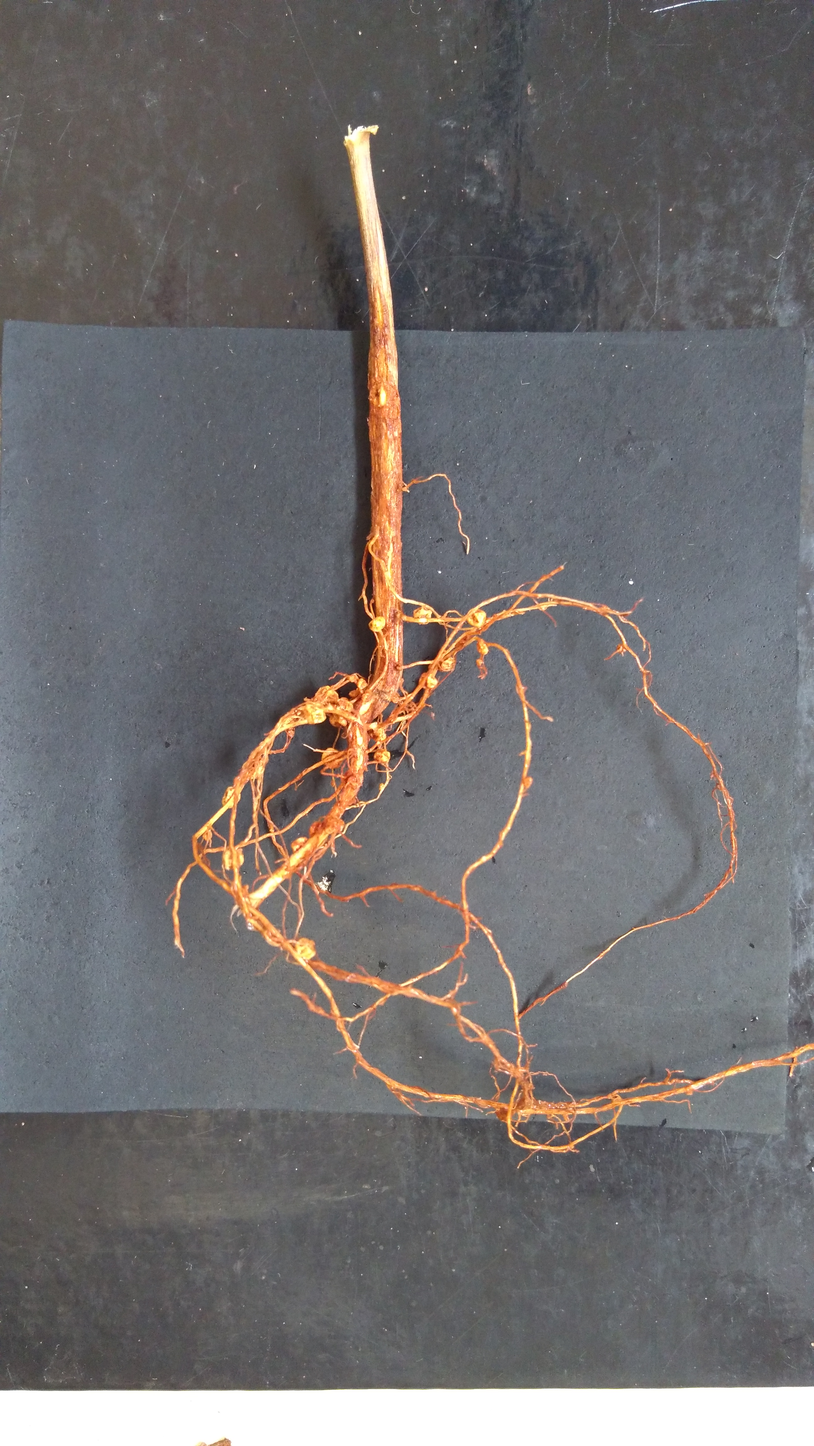nodule: (294, 936, 318, 962), (222, 846, 246, 872), (301, 704, 328, 727), (321, 746, 344, 771), (313, 685, 339, 707), (239, 759, 266, 780), (220, 785, 242, 810), (465, 608, 488, 629), (412, 605, 433, 627), (308, 819, 327, 840), (289, 834, 309, 853), (494, 1103, 516, 1120), (367, 615, 387, 633), (325, 817, 346, 834), (336, 695, 354, 714), (372, 749, 393, 765), (328, 713, 347, 730), (440, 656, 457, 673), (329, 805, 346, 821), (475, 639, 490, 656), (517, 1097, 532, 1112), (426, 674, 438, 691), (372, 727, 387, 740), (522, 775, 534, 789), (357, 677, 367, 690), (348, 688, 359, 699), (392, 693, 400, 705), (348, 675, 358, 684)
